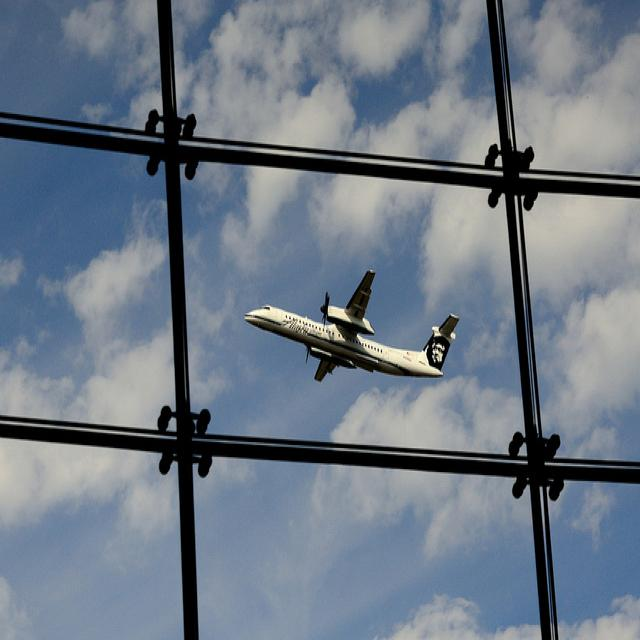airplane: (243, 266, 462, 385)
